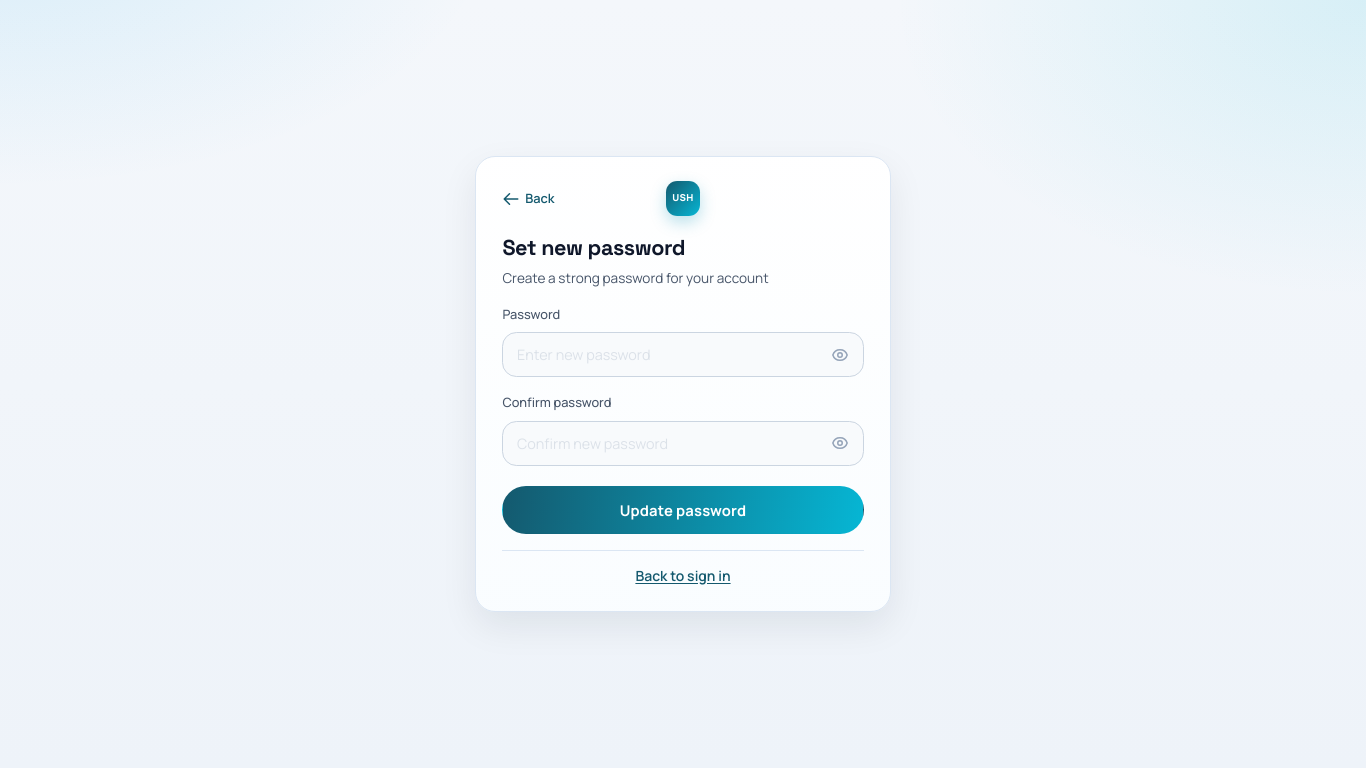
Test: Reset Password Page › shows validation error when fields are empty
The image size is (1366, 768).
Step 1. Click the button "Update password" → [683, 510], box [502,486,864,534]
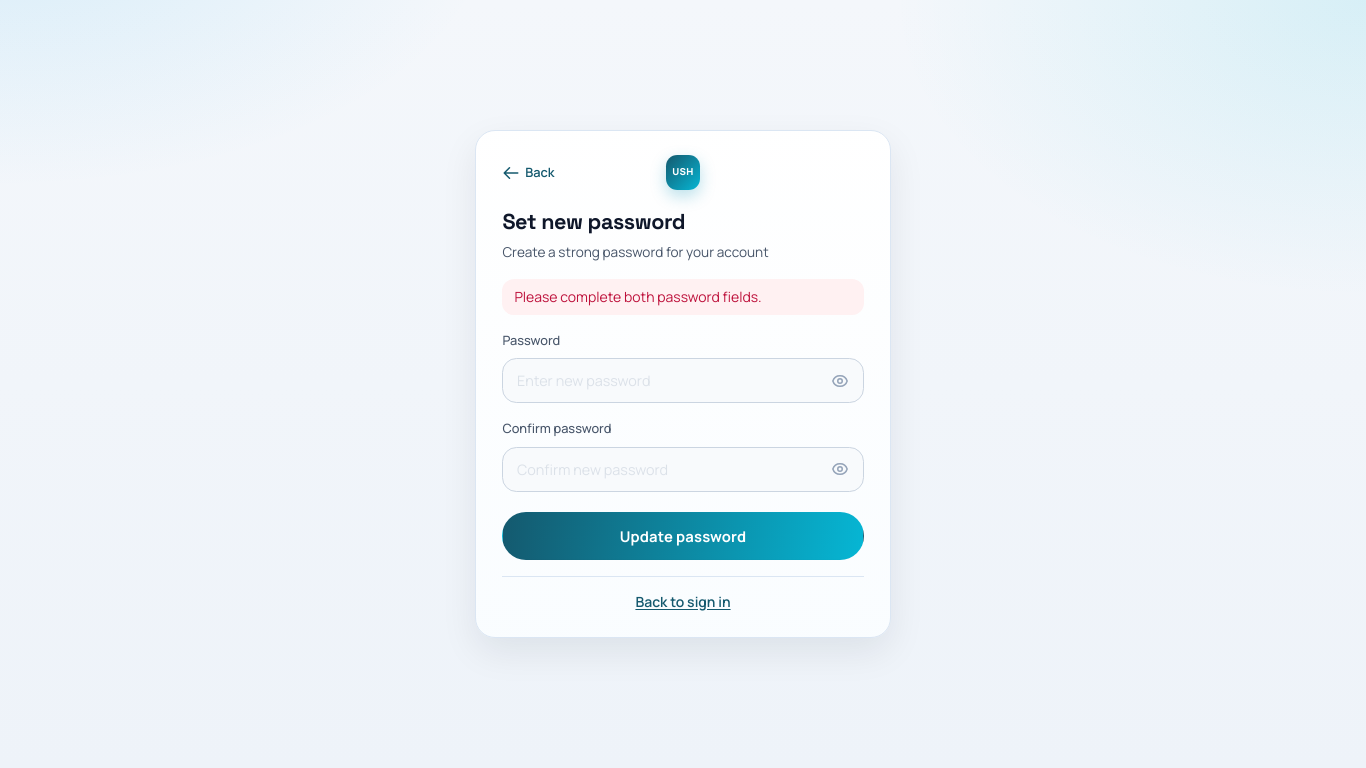
Check: the text "Please complete both password fields." is shown, box [502,279,864,315]
